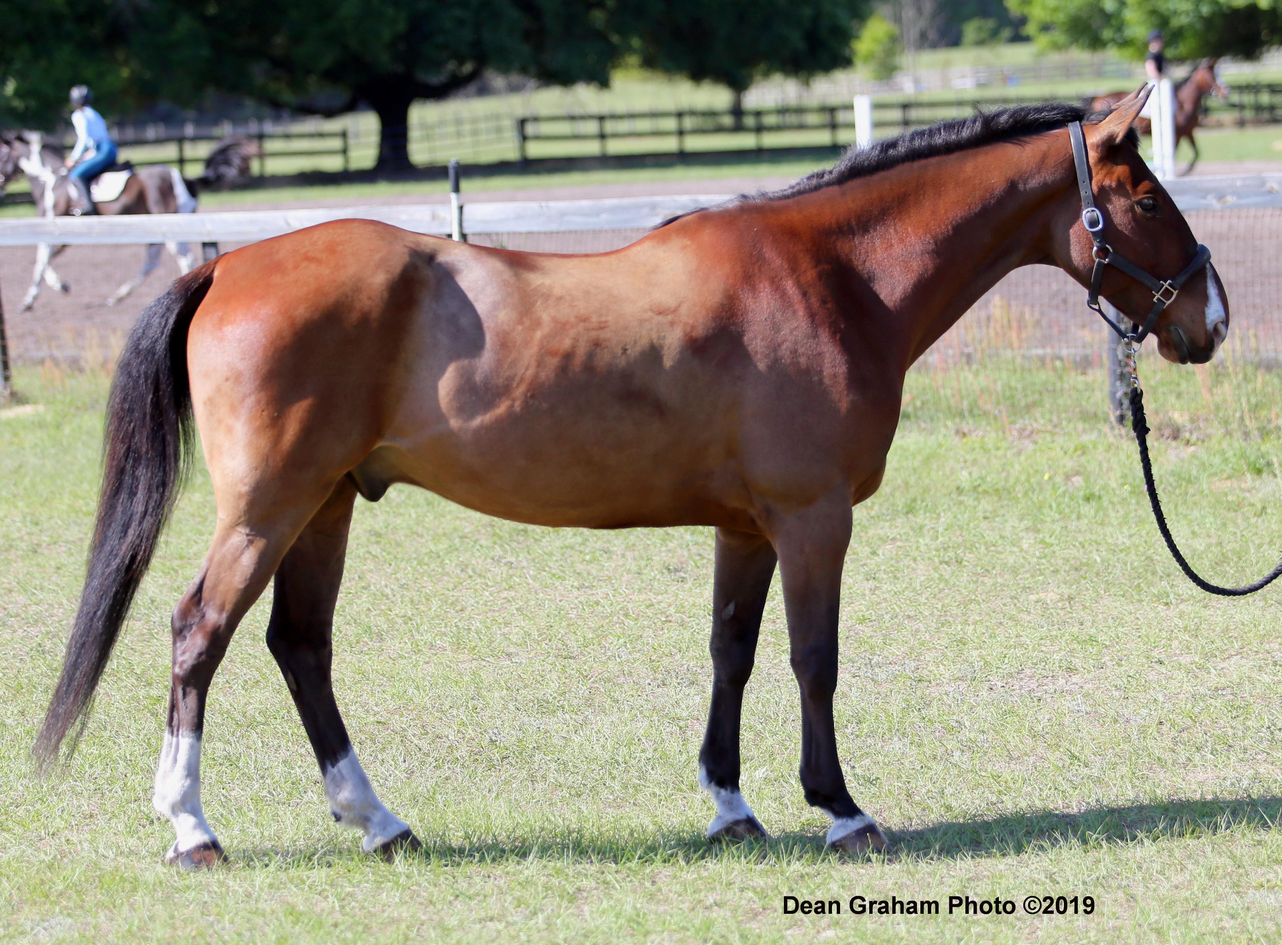horse: (0, 71, 1282, 879)
